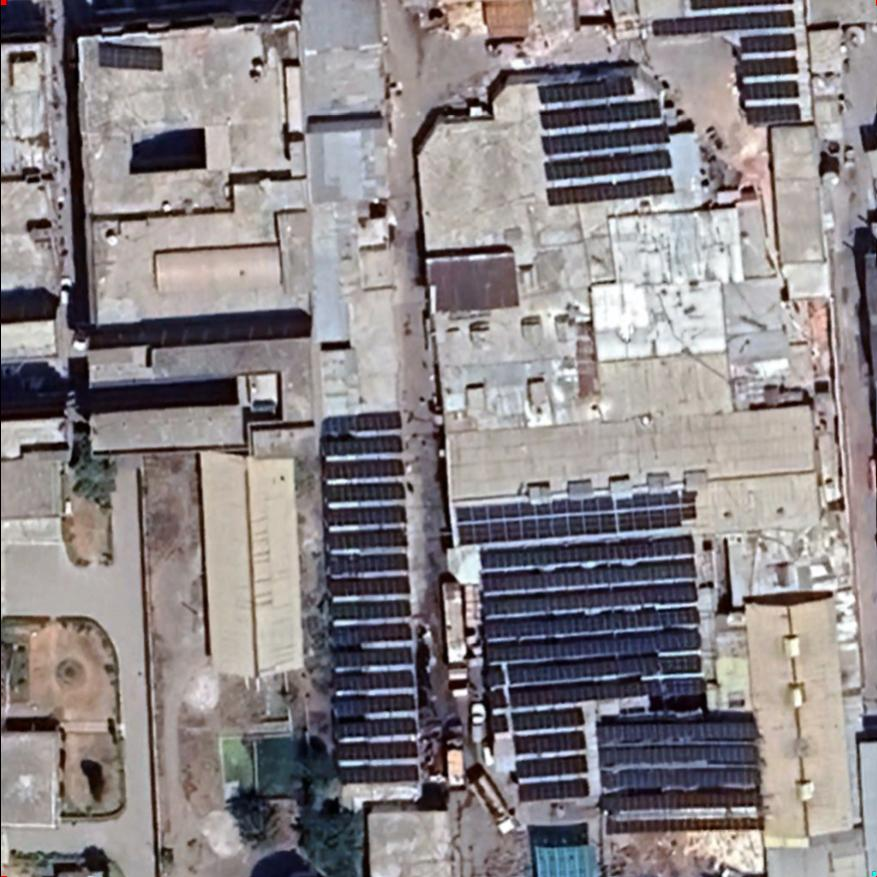Solarpanel: (478, 534, 712, 807), (314, 408, 422, 786), (598, 709, 765, 839), (646, 0, 804, 128), (533, 71, 678, 208), (451, 492, 696, 548), (97, 39, 161, 69)
